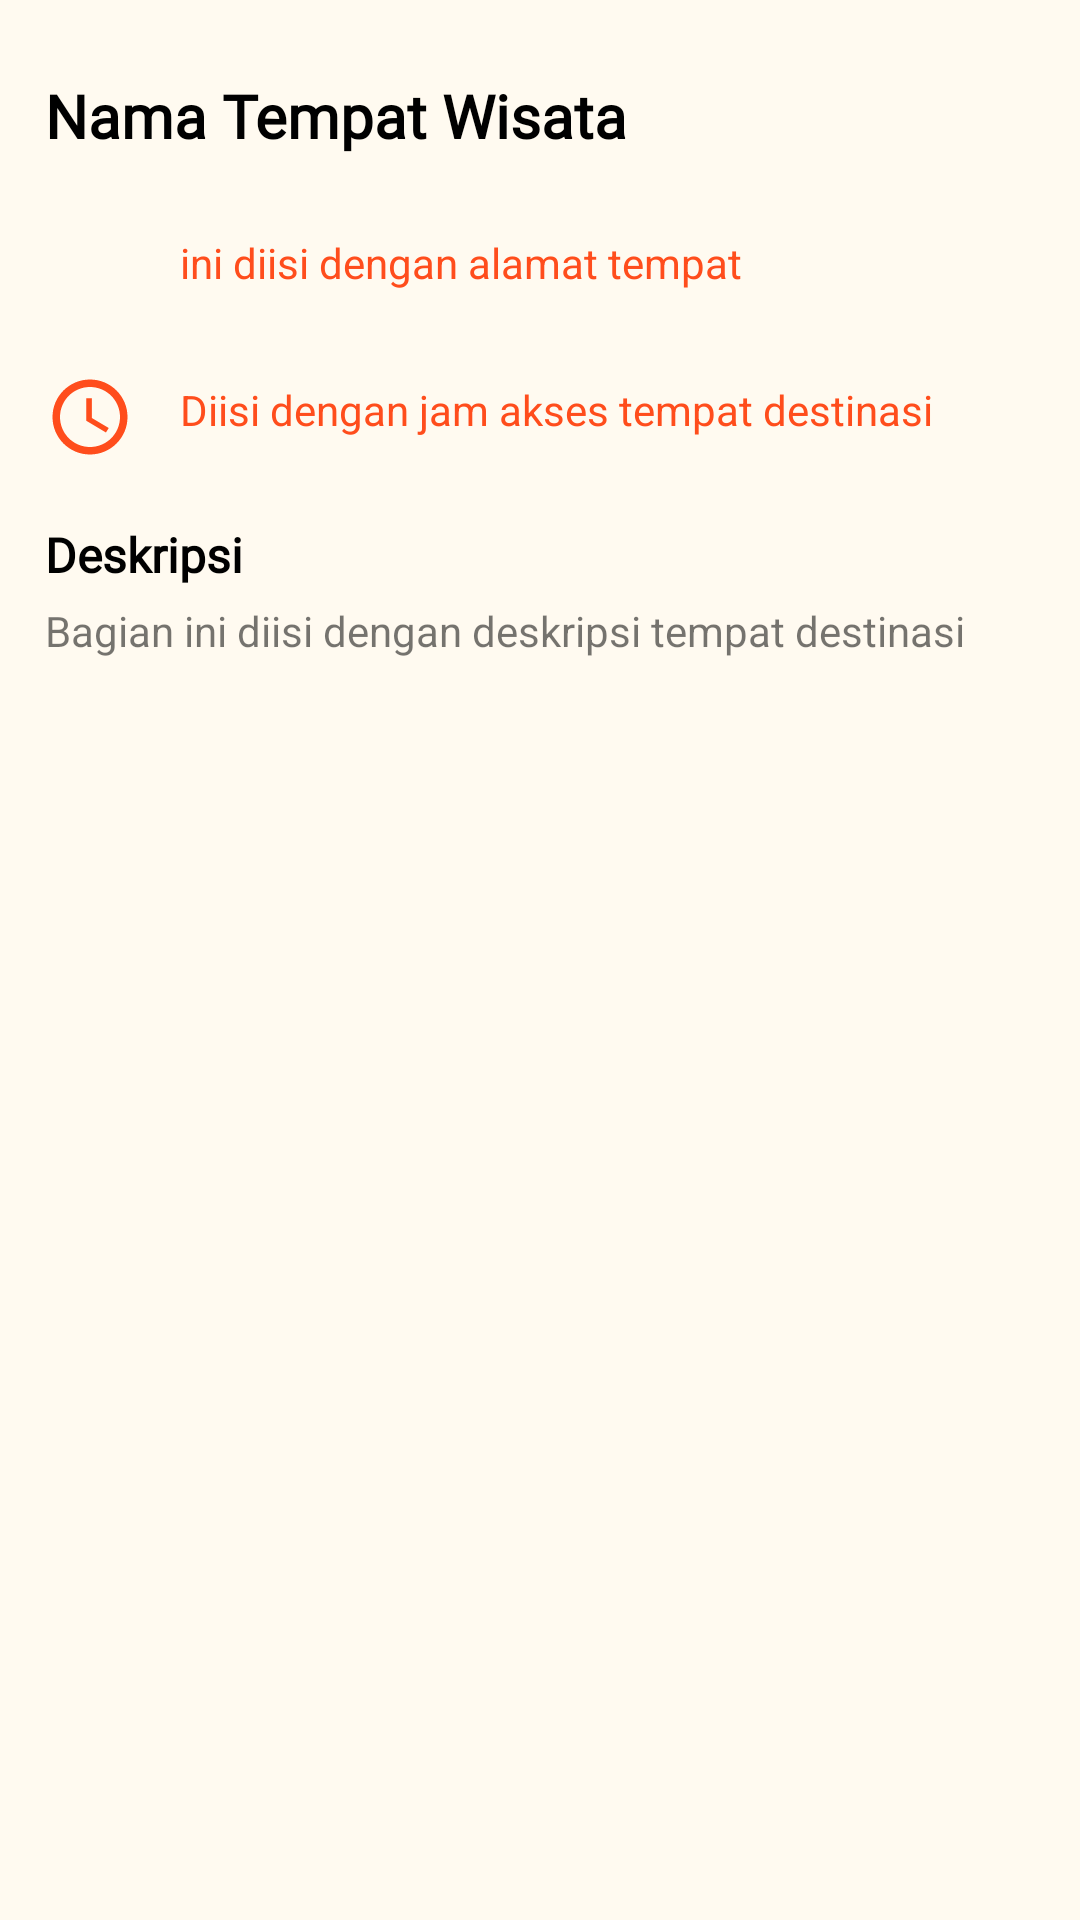

Locate icon controls on the screen. Image size 1080w x 1920h, boxes as Rect(x1, y1, x2, y2).
access time: Rect(52, 379, 128, 455)
